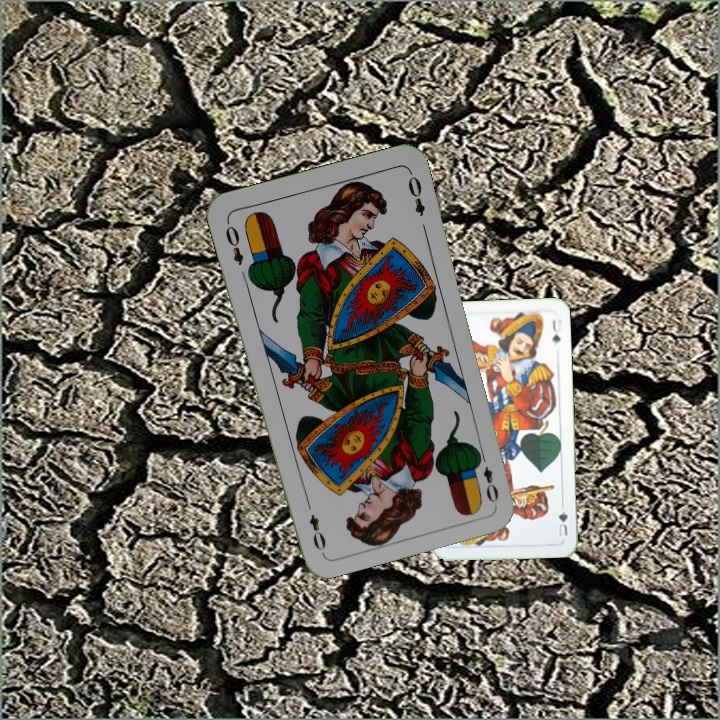EO: (474, 448, 501, 506), (221, 217, 246, 268)
GU: (554, 506, 570, 539)
